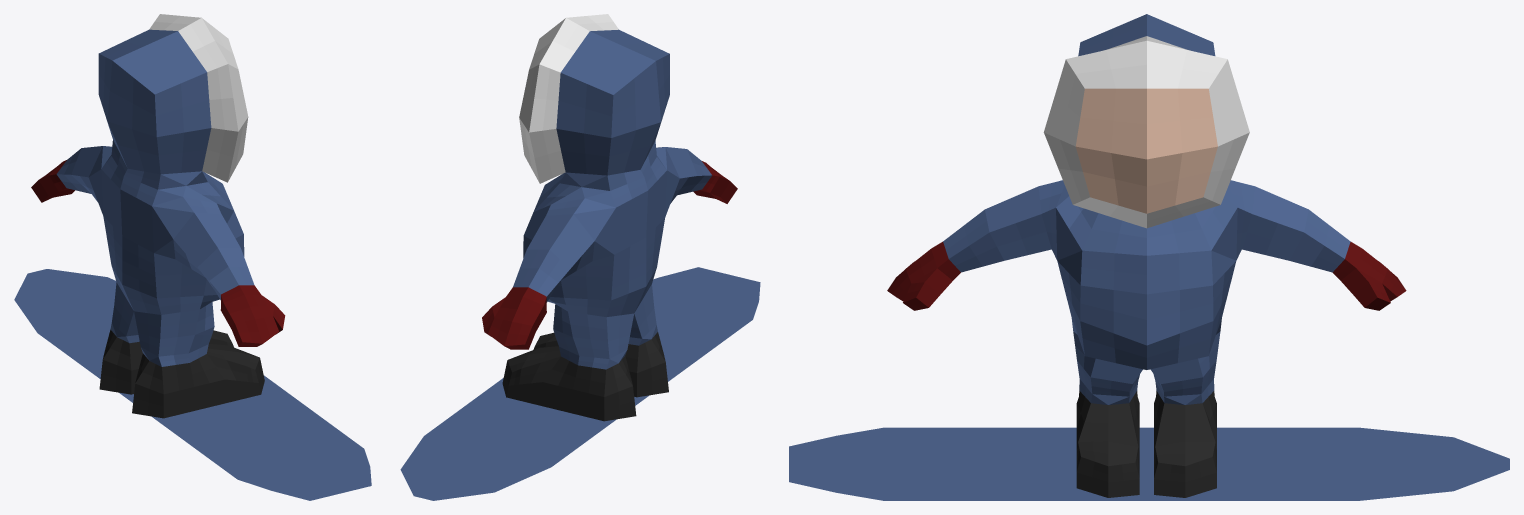
File: SkiiMan.fbx
3 renders of one model, left to right at view 1: azimuth 30°, elevation 25°; view 2: azimuth 150°, elevation 25°; view 3: azimuth 270°, elevation 25°, orthographic. The views are drawn at different scales.
Parts seen in each view (by area): view 1: Plane; view 2: Plane; view 3: Plane.
Boxes of the visible parts, left/top/right/bottom form: Plane: left=14, top=14, right=371, bottom=500; Plane: left=400, top=14, right=760, bottom=500; Plane: left=789, top=14, right=1509, bottom=500.
Size of the model in its own units: 79.13 by 188 by 285.
